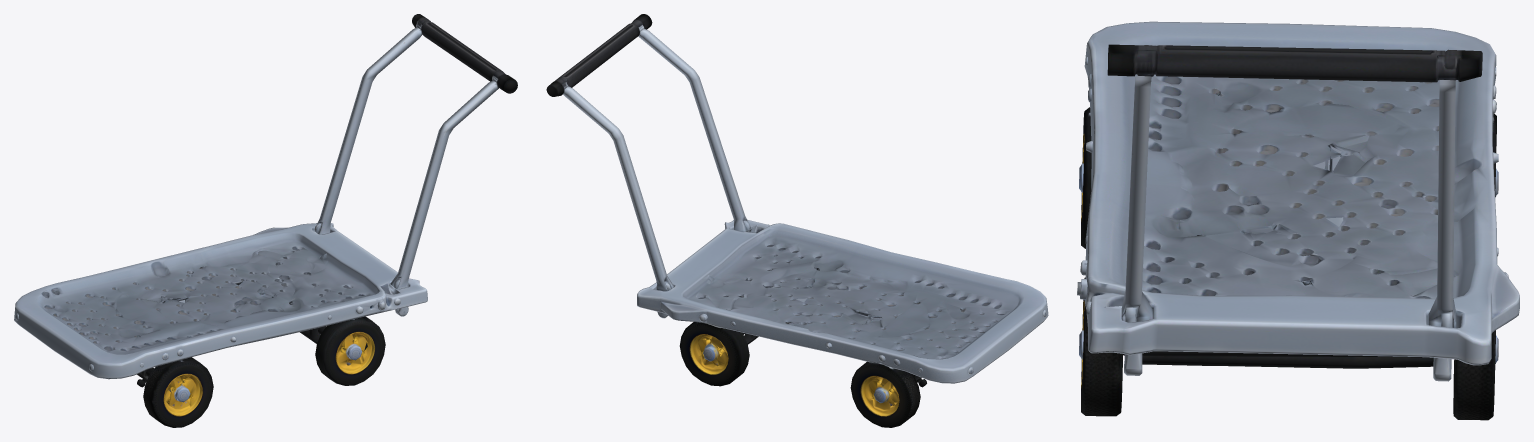
The model's file is kolica-rucna.glb.
The picture shows the model from 3 angles, left to right: view 1: azimuth 30°, elevation 25°; view 2: azimuth 150°, elevation 25°; view 3: azimuth 270°, elevation 25°; orthographic projection. The views are drawn at different scales.
Parts seen in each view (by area): view 1: tripo_node_0b137a8d-1532-4f83-bbc0-0960e8b6453e; view 2: tripo_node_0b137a8d-1532-4f83-bbc0-0960e8b6453e; view 3: tripo_node_0b137a8d-1532-4f83-bbc0-0960e8b6453e.
Boxes of the visible parts, bbox=[...] form: tripo_node_0b137a8d-1532-4f83-bbc0-0960e8b6453e: bbox=[14, 14, 517, 427]; tripo_node_0b137a8d-1532-4f83-bbc0-0960e8b6453e: bbox=[546, 14, 1048, 427]; tripo_node_0b137a8d-1532-4f83-bbc0-0960e8b6453e: bbox=[1077, 21, 1519, 420].
Size of the model in its own units: 0.9995 by 0.603 by 0.4604.
Materials: 1 (1 with a texture image).
